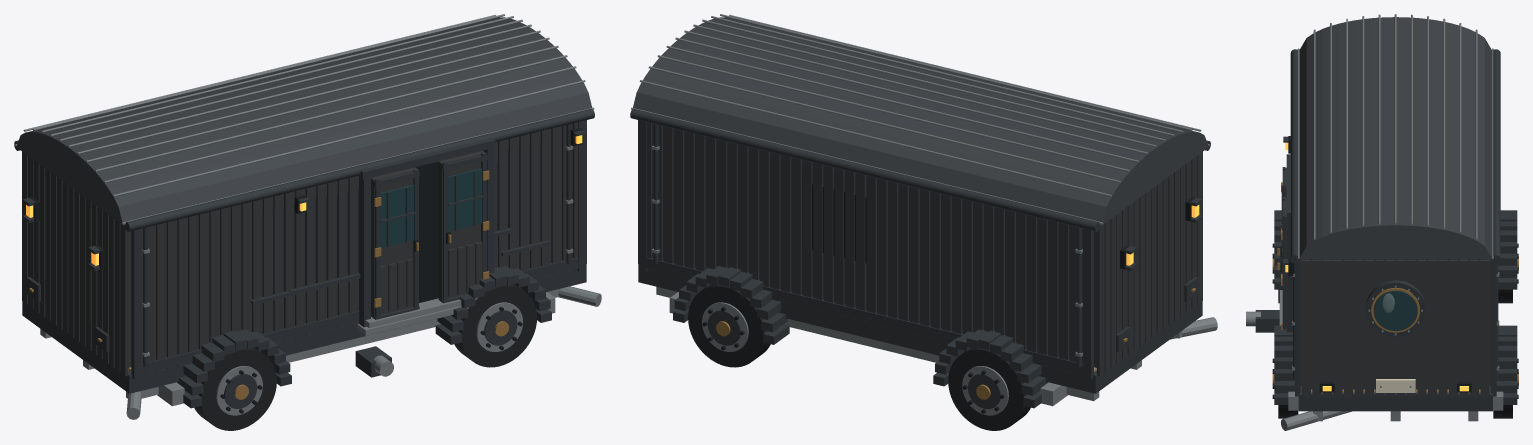
Rendered from antracit.glb.
3 views of the same model, side by side, from view 1: azimuth 30°, elevation 25°; view 2: azimuth 150°, elevation 25°; view 3: azimuth 270°, elevation 25° (orthographic). The views are drawn at different scales.
Visible parts, largest first — view 1: One-piece curved standing-seam roof, Insulated floor cassette, Rain gutter, All-terrain tire.002, All-terrain tire, Wide double-door opening, Long side wall near, Lower perimeter trim, Door leaf timber panel.001, Door leaf timber panel, Door frame upright, Vertical corner trim (+81 smaller); view 2: One-piece curved standing-seam roof, Insulated floor cassette, Long side wall far, Rain gutter.001, Lower perimeter trim.001, All-terrain tire.001, All-terrain tire.003, Chassis crossmember.002, Individual vertical timber board.044, Individual vertical timber board.046, Individual vertical timber board.055, Individual vertical timber board.058 (+76 smaller); view 3: One-piece curved standing-seam roof, Rear end wall, Insulated floor cassette, Rain gutter.001, Rain gutter, End vertical cladding board.023, End vertical cladding board.031, End vertical cladding board.035, End vertical cladding board.021, End vertical cladding board.019, End vertical cladding board.033, Round porthole glass (+38 smaller).
Part boxes in pixels (bbox=[...]): One-piece curved standing-seam roof: bbox=[16, 17, 592, 225]; Insulated floor cassette: bbox=[22, 264, 586, 393]; Rain gutter: bbox=[124, 108, 594, 231]; All-terrain tire.002: bbox=[454, 284, 536, 367]; All-terrain tire: bbox=[194, 348, 276, 430]; Wide double-door opening: bbox=[415, 150, 483, 302]; Long side wall near: bbox=[155, 124, 572, 359]; Lower perimeter trim: bbox=[141, 257, 578, 374]; Door leaf timber panel.001: bbox=[438, 150, 484, 301]; Door leaf timber panel: bbox=[371, 167, 416, 318]; Door frame upright: bbox=[359, 169, 370, 327]; Vertical corner trim: bbox=[131, 229, 141, 379]; One-piece curved standing-seam roof: bbox=[633, 17, 1208, 225]; Insulated floor cassette: bbox=[638, 264, 1202, 393]; Long side wall far: bbox=[652, 123, 1069, 358]; Rain gutter.001: bbox=[630, 108, 1100, 231]; Lower perimeter trim.001: bbox=[646, 257, 1083, 374]; All-terrain tire.001: bbox=[948, 348, 1030, 430]; All-terrain tire.003: bbox=[688, 284, 770, 367]; Chassis crossmember.002: bbox=[656, 286, 1099, 401]; Individual vertical timber board.044: bbox=[1059, 222, 1069, 371]; Individual vertical timber board.046: bbox=[1037, 217, 1047, 366]; Individual vertical timber board.055: bbox=[941, 194, 951, 342]; Individual vertical timber board.058: bbox=[909, 186, 919, 335]; One-piece curved standing-seam roof: bbox=[1298, 17, 1492, 259]; Rear end wall: bbox=[1303, 259, 1488, 389]; Insulated floor cassette: bbox=[1298, 386, 1492, 411]; Rain gutter.001: bbox=[1491, 49, 1500, 263]; Rain gutter: bbox=[1290, 49, 1299, 263]; End vertical cladding board.023: bbox=[1354, 260, 1363, 397]; End vertical cladding board.031: bbox=[1438, 260, 1447, 397]; End vertical cladding board.035: bbox=[1480, 260, 1489, 397]; End vertical cladding board.021: bbox=[1333, 260, 1342, 397]; End vertical cladding board.019: bbox=[1312, 260, 1321, 397]; End vertical cladding board.033: bbox=[1459, 260, 1468, 397]; Round porthole glass: bbox=[1373, 290, 1417, 330].
Bounding box in the file's own units: 6.18 × 3.19 × 3.3.
